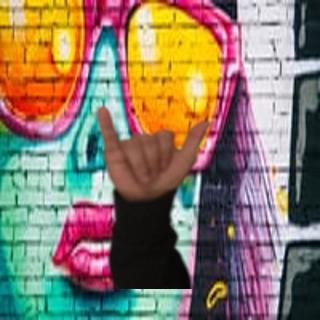HAVE: (84, 101, 218, 202)
